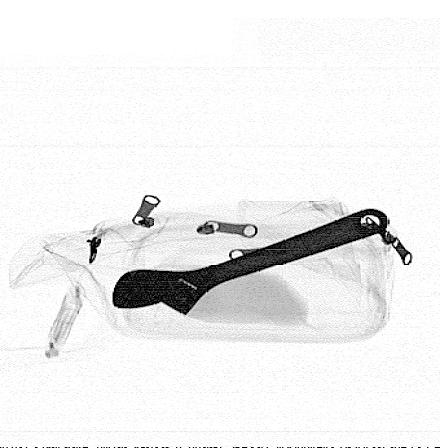Wrench: (110, 207, 391, 317)
